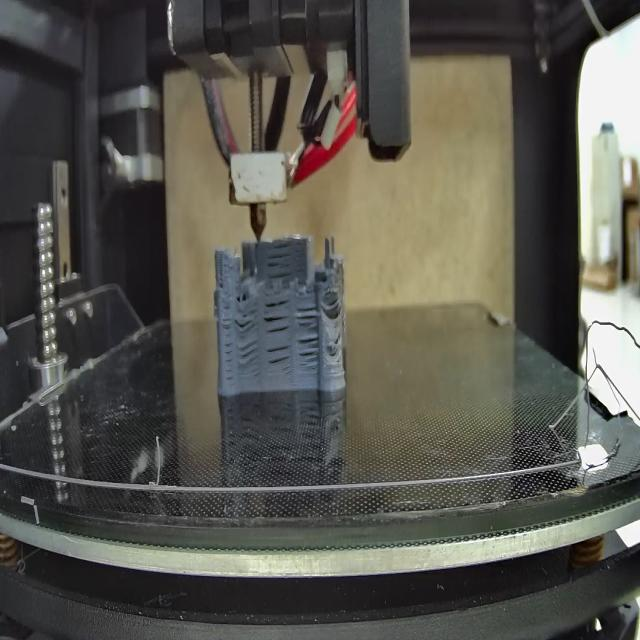cracks: (264, 241, 296, 280), (264, 298, 292, 335), (222, 302, 234, 388), (266, 343, 292, 379), (296, 337, 320, 375), (237, 338, 262, 374), (295, 302, 319, 330), (234, 310, 258, 332), (324, 298, 344, 317), (326, 331, 340, 357), (216, 274, 226, 290)
